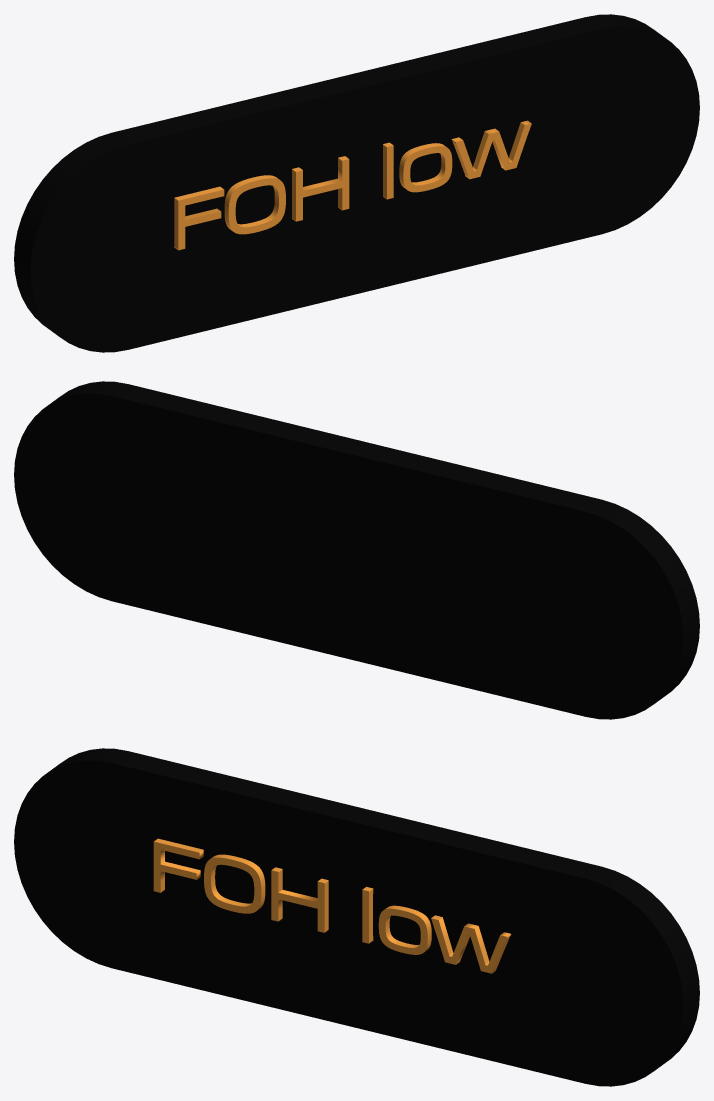
File: FOH Low.glb
3 views of the same model, one above another, from view 1: azimuth 30°, elevation 25°; view 2: azimuth 150°, elevation 25°; view 3: azimuth 330°, elevation 25° (orthographic).
Visible parts, largest first — view 1: Curve; view 2: Curve; view 3: Curve.
Part boxes in pixels (left/top/right/bottom): Curve: left=14, top=14, right=699, bottom=352; Curve: left=14, top=381, right=699, bottom=719; Curve: left=14, top=748, right=699, bottom=1086.
Size of the model in its own units: 0.2822 by 0.0826 by 0.015.
